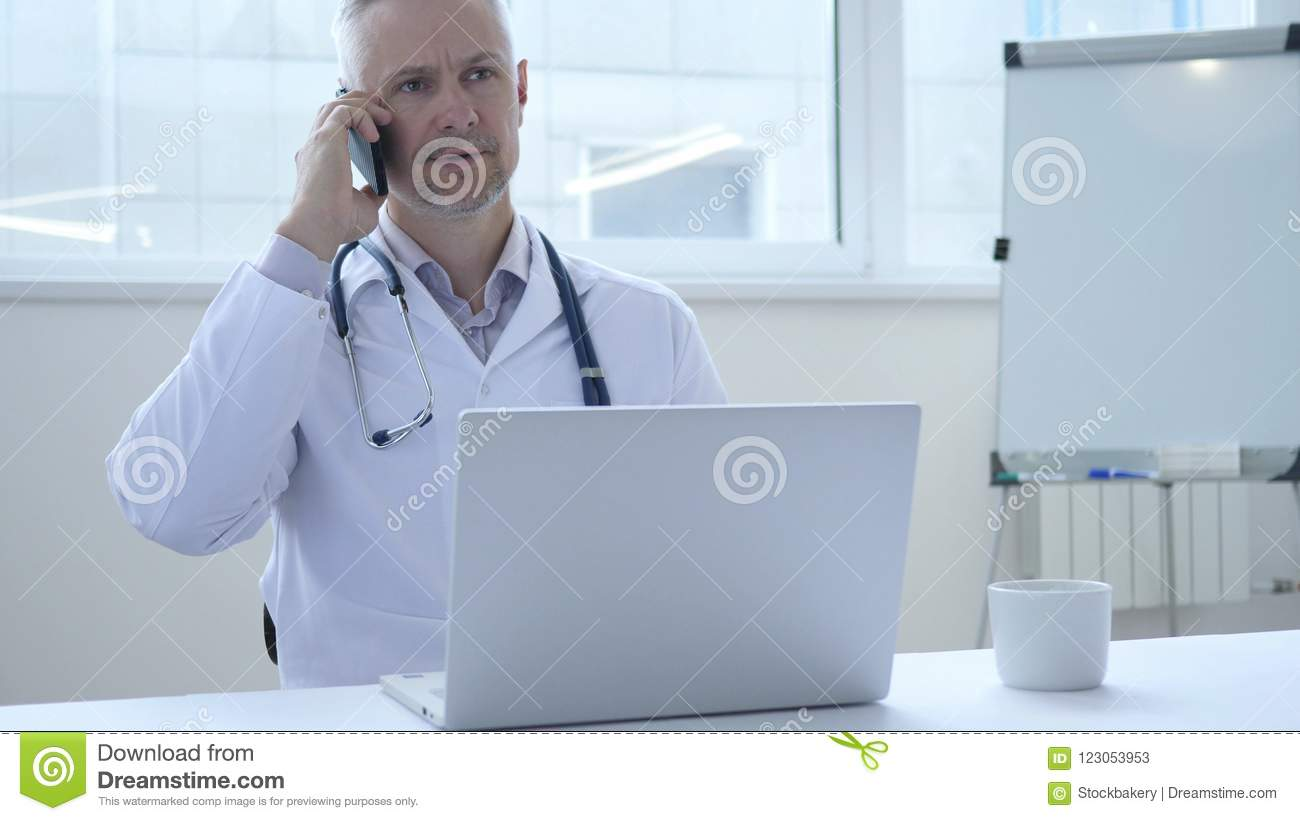phone: (331, 85, 396, 204)
talk: (288, 52, 513, 257)
